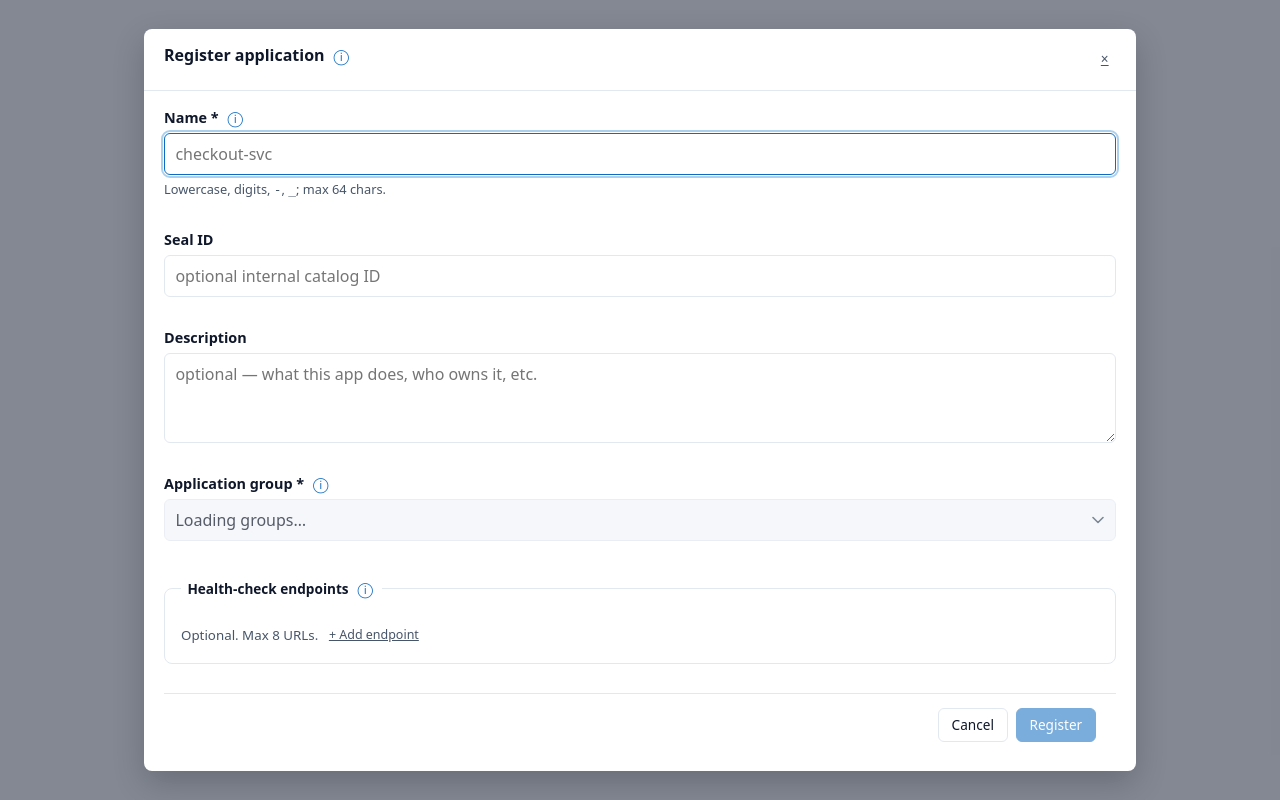
CreateApplicationDialog — validation › invalid name (uppercase) keeps Register disabled + shows the regex error
Type "Checkout-Svc" into the field labelled "Name *".
click(640, 154); type("Checkout-Svc")  # box [164,133,1116,175]
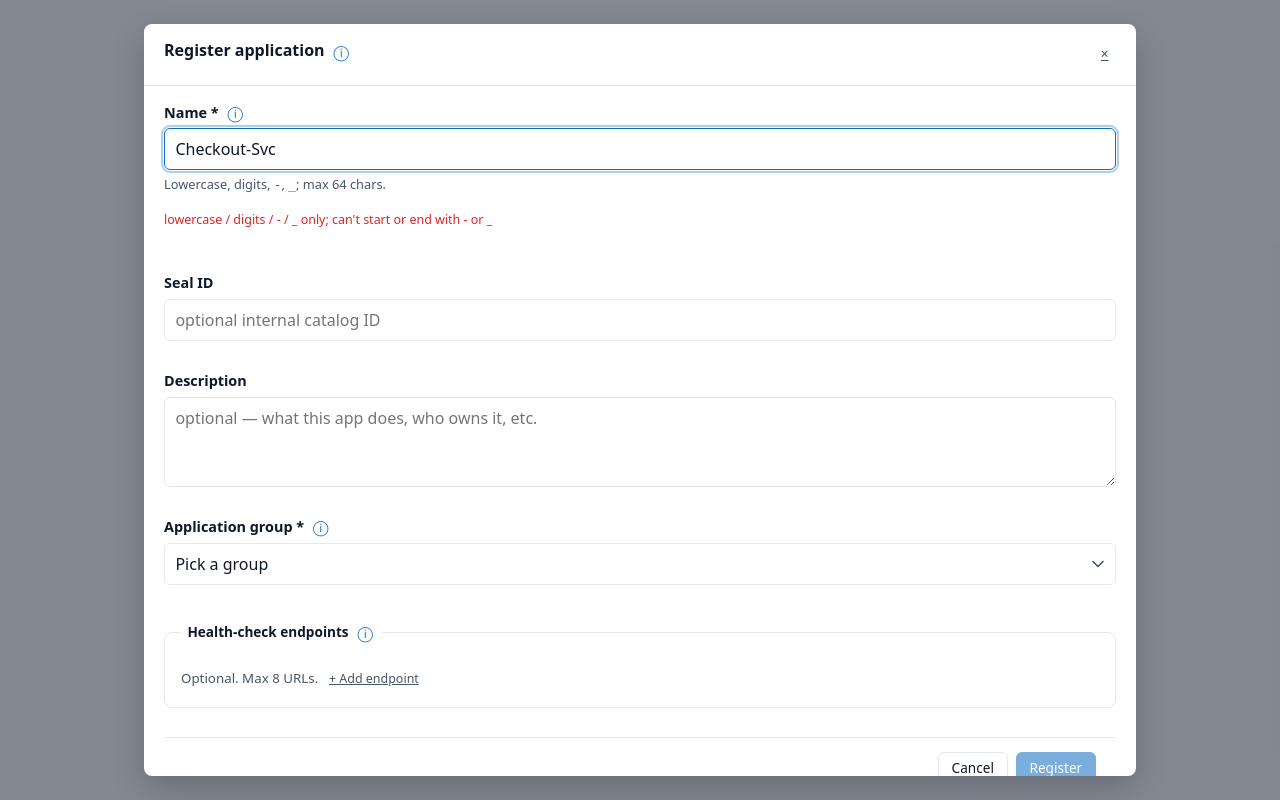
Expected: the button "Register" is disabled, [1016,752,1096,776]
Result: the text "lowercase / digits / - / _ only; can't start or end with - or _" is shown at [164,211,492,228]
